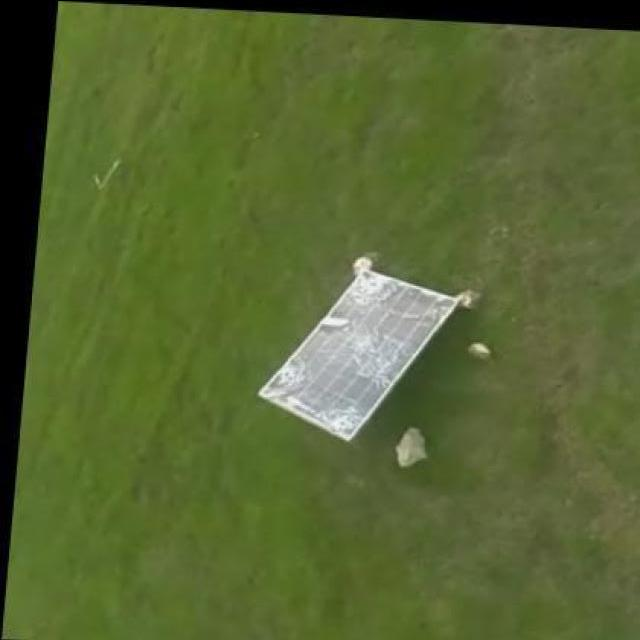cracked: (254, 260, 462, 442)
